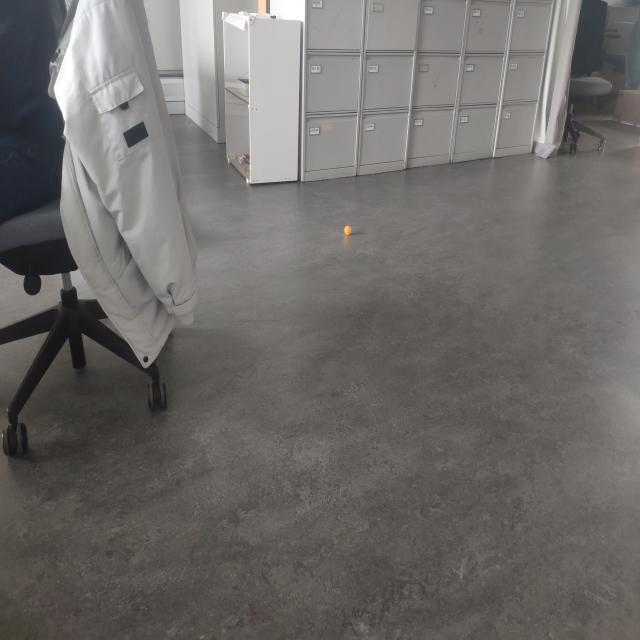ping-pong-ball: (343, 225, 352, 236)
